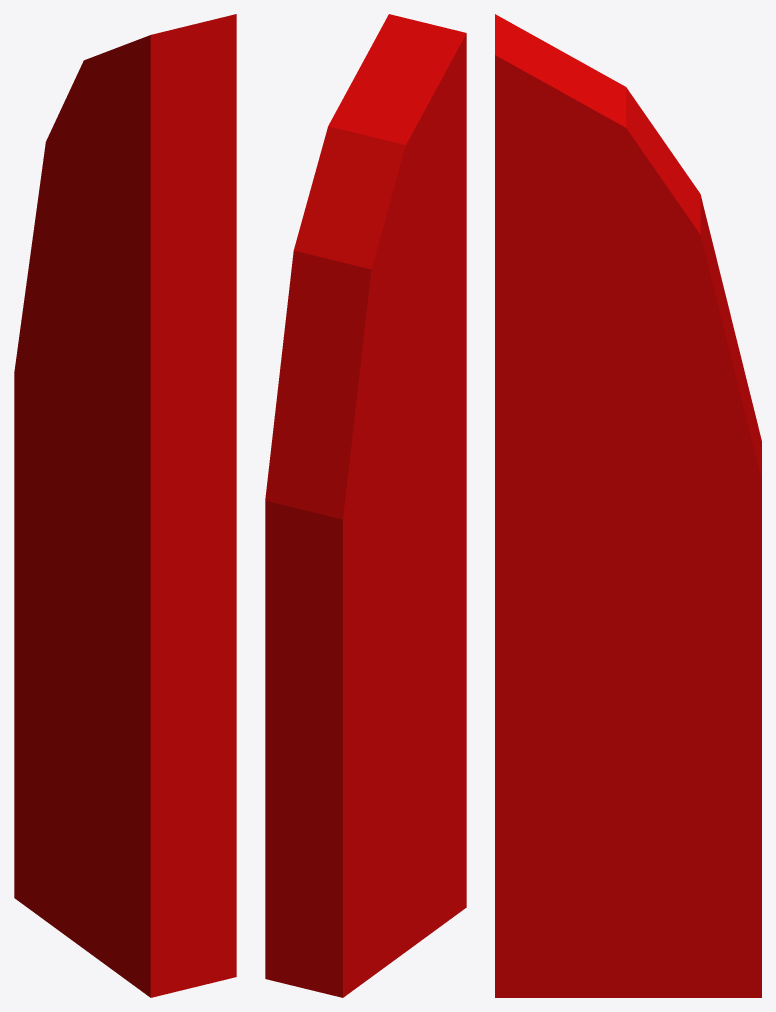
The model's file is Door01LeftCollider.fbx.
3 views of the same model, side by side, from view 1: azimuth 30°, elevation 25°; view 2: azimuth 150°, elevation 25°; view 3: azimuth 270°, elevation 25° (orthographic). The views are drawn at different scales.
Visible parts, largest first — view 1: Door01LeftCollision; view 2: Door01LeftCollision; view 3: Door01LeftCollision.
Part boxes in pixels (<box>): Door01LeftCollision: <box>14,14,236,997</box>; Door01LeftCollision: <box>265,14,466,997</box>; Door01LeftCollision: <box>495,14,761,997</box>.
Bounding box in the file's own units: 23.58 × 253 × 64.96.
